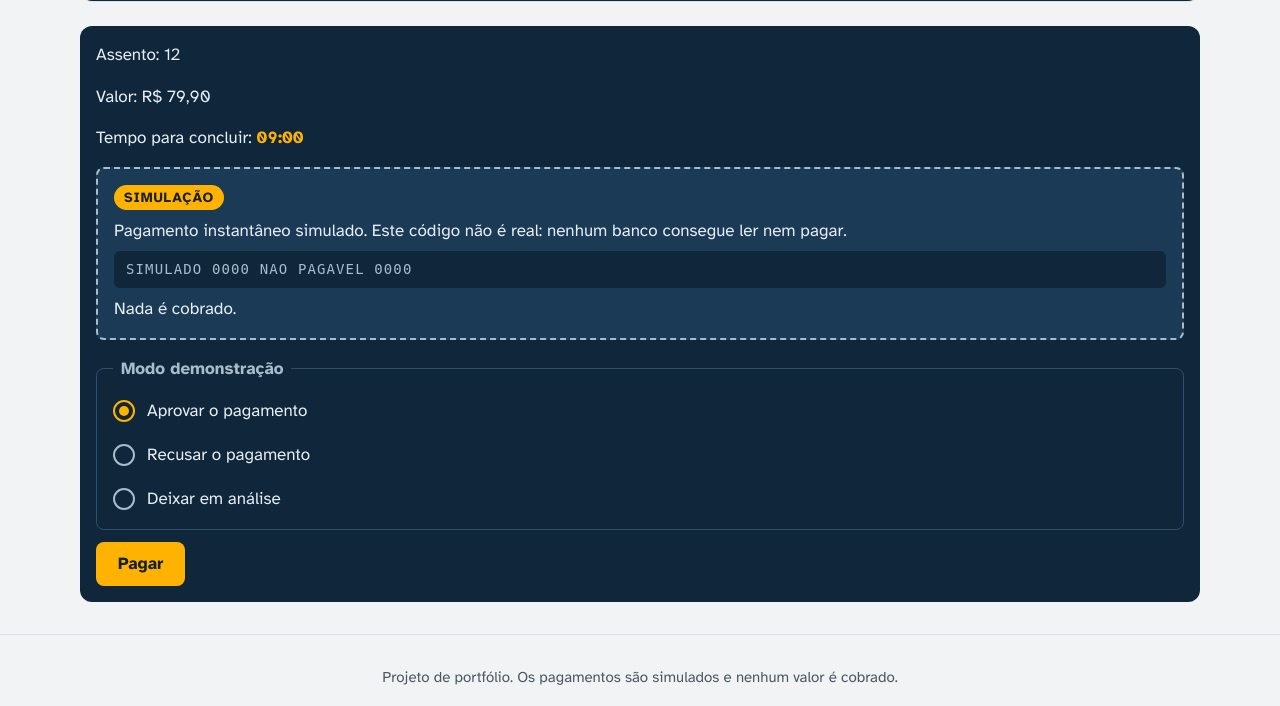
Test case: PaymentPage: pagar › falha de rede: tentar de novo reaproveita a mesma chave
Later steps or results of the test are not shown.
(page scrolled)
Click the button "Pagar" at (141, 564), box left=96, top=542, right=186, bottom=586
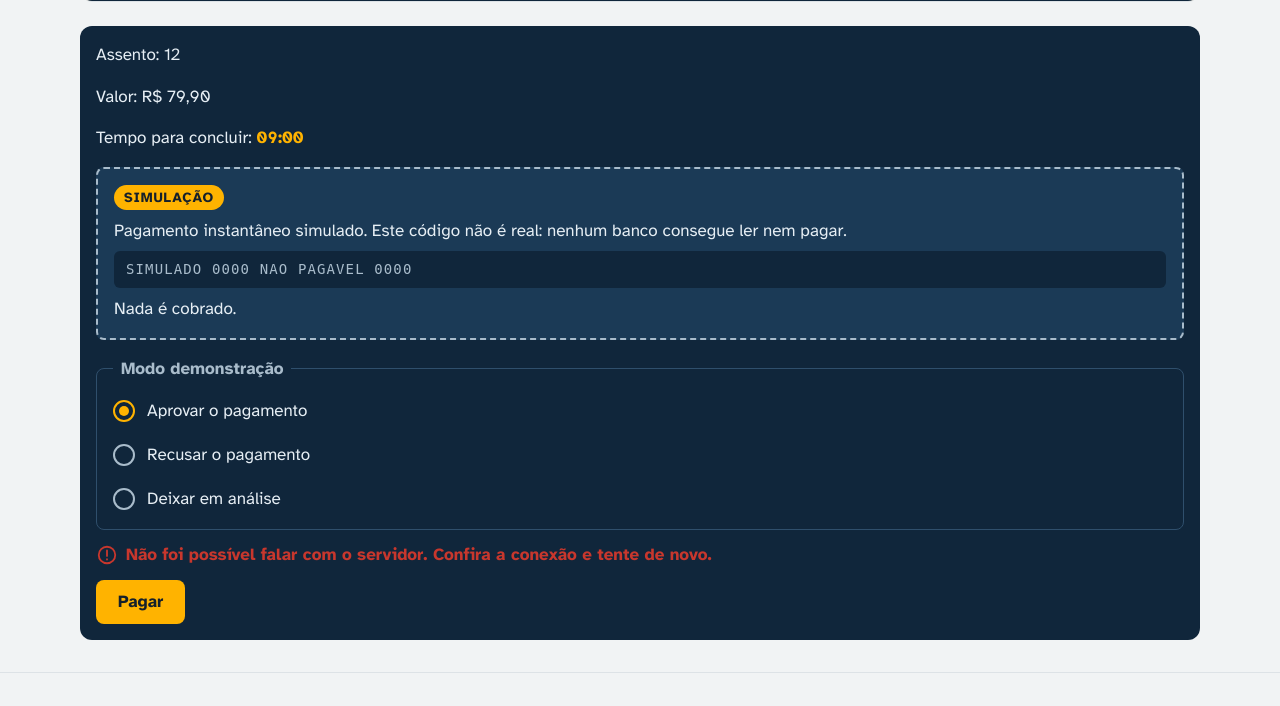
Now the message "Não foi possível falar com o servidor. Confira a conexão e tente de novo." is shown, box left=96, top=544, right=712, bottom=566
